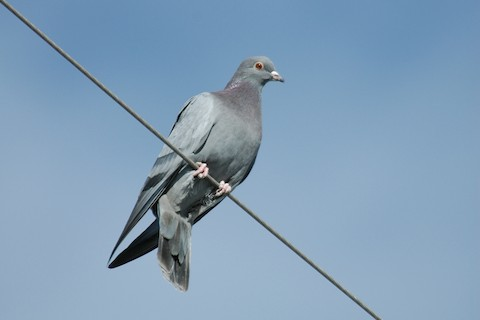pigeon: (105, 48, 289, 295)
